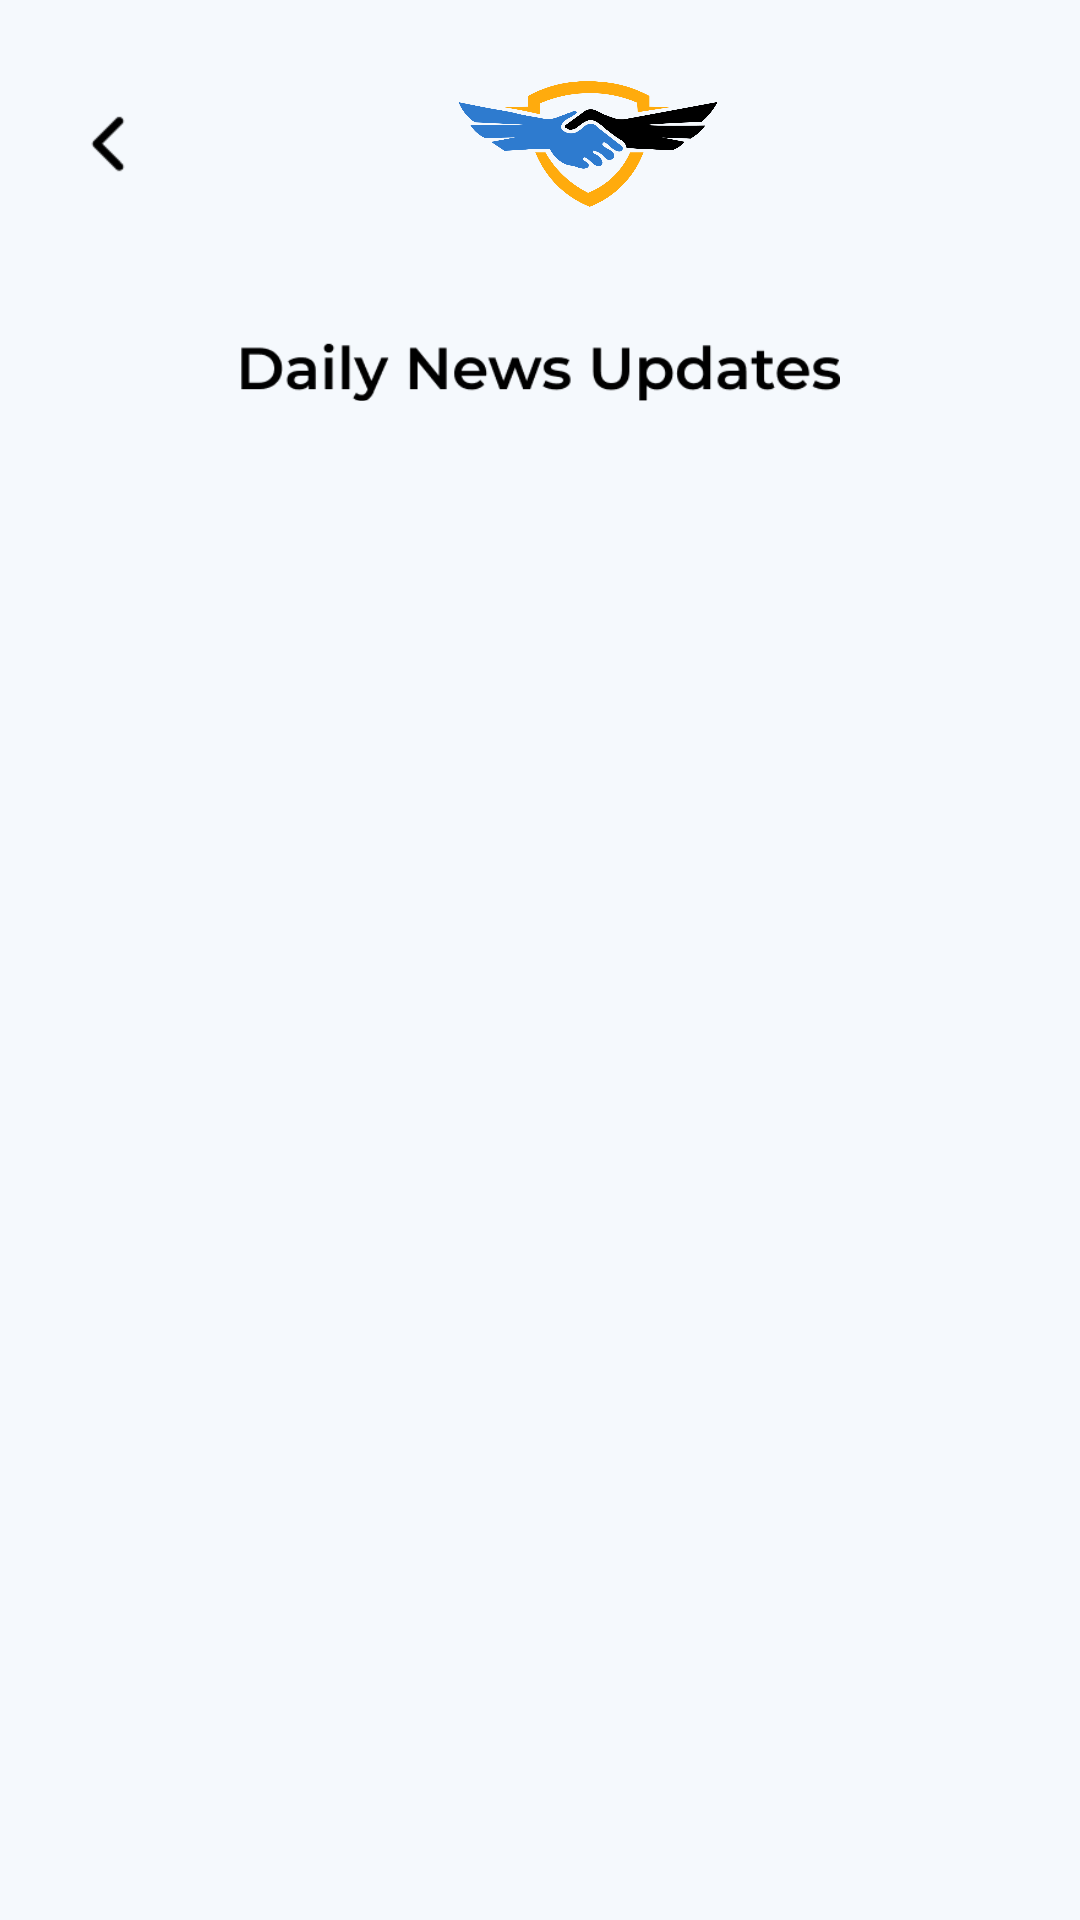

Icons on this 1080px x 1920px Android screen, each with its box as (x1, y1, x2, y2):
backbtn: (91, 116, 124, 172)
